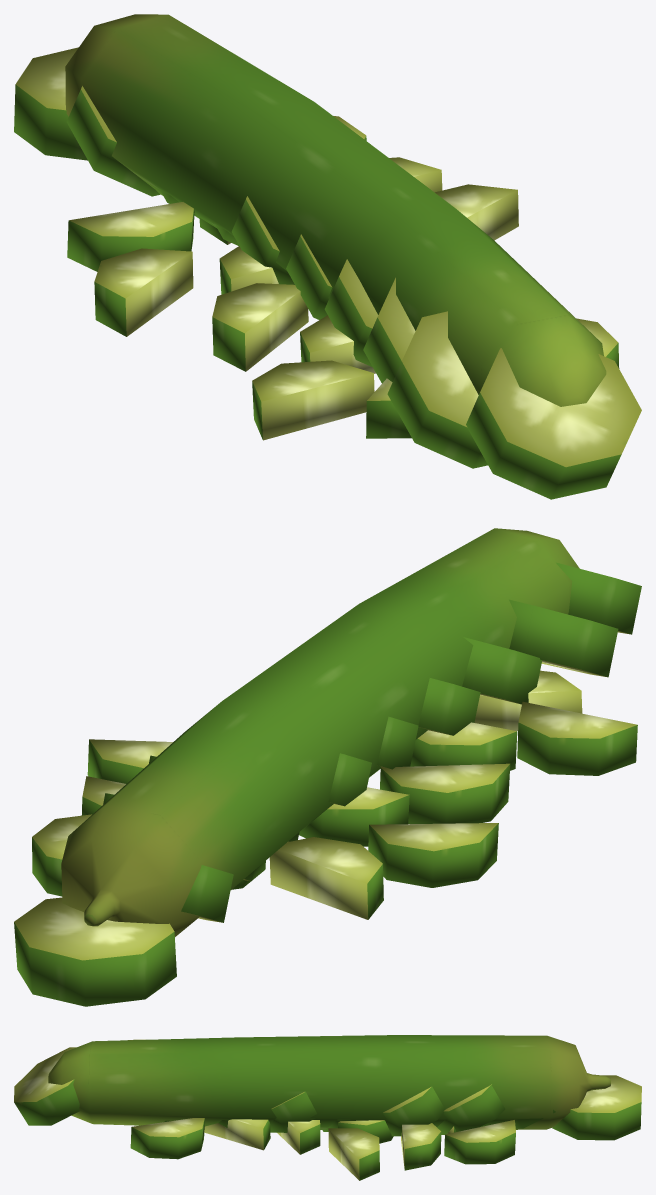
The model's file is cucumber.fbx.
3 renders of one model, top to bottom at view 1: azimuth 30°, elevation 25°; view 2: azimuth 150°, elevation 25°; view 3: azimuth 270°, elevation 25°, orthographic. The views are drawn at different scales.
Parts seen in each view (by area): view 1: cucumber_1, cucumber_3, cucumber_4; view 2: cucumber_1, cucumber_4, cucumber_3; view 3: cucumber_1, cucumber_4, cucumber_3.
Part boxes in pixels (x1,y1,x2,y2): cucumber_1: (65,14,606,406); cucumber_3: (14,47,641,499); cucumber_4: (67,116,619,440); cucumber_1: (61,528,579,936); cucumber_4: (32,670,637,919); cucumber_3: (14,562,641,1006); cucumber_1: (48,1035,610,1129); cucumber_4: (130,1118,515,1180); cucumber_3: (14,1039,641,1140).
Bounding box in the file's own units: 0.092 × 0.0308 × 0.2099.
